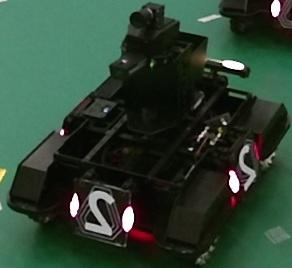armor_2: (69, 191, 135, 231)
